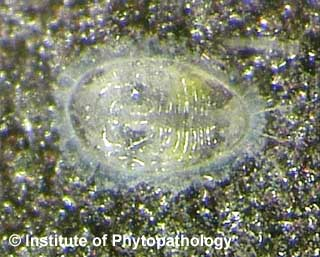whitefly: (55, 41, 290, 187)
